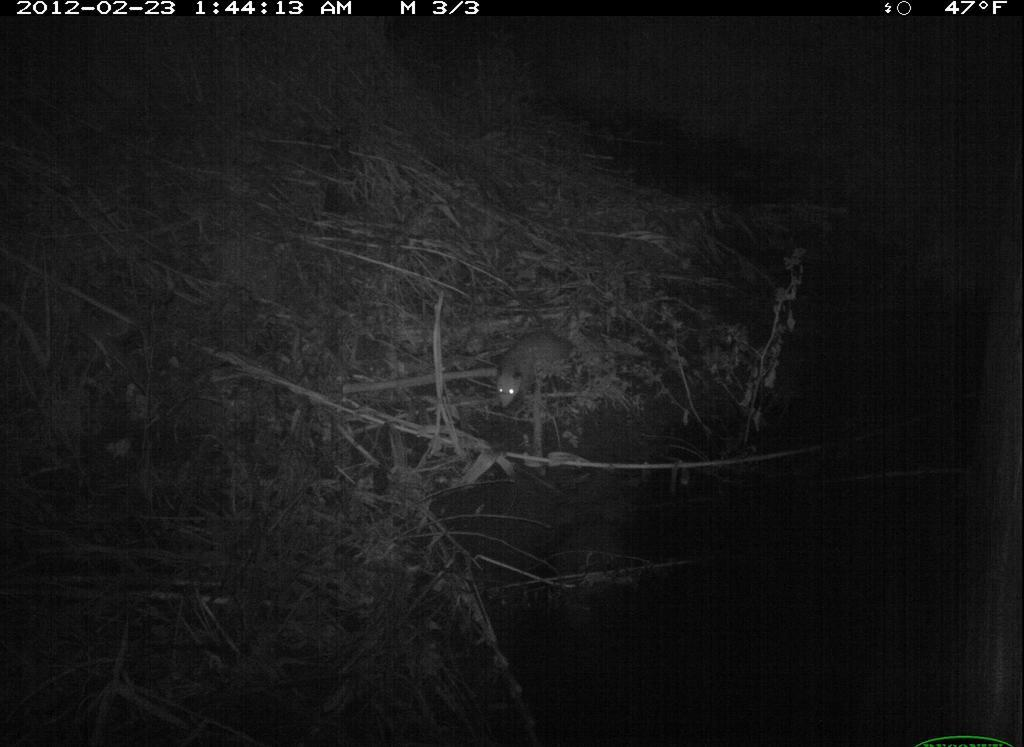opossum: (489, 319, 588, 418)
